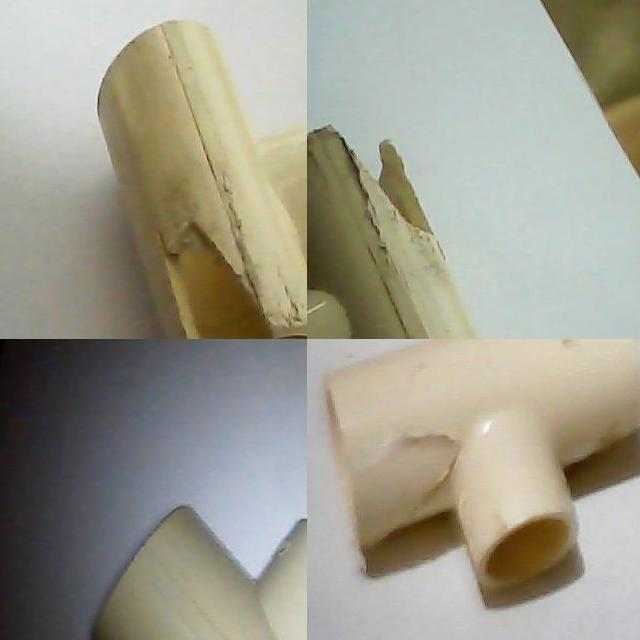Defective: (148, 224, 285, 339), (166, 226, 275, 339), (331, 123, 435, 240), (348, 421, 464, 514), (358, 140, 429, 235)
T Joint: (324, 339, 640, 583), (96, 20, 307, 339), (307, 127, 479, 339), (92, 506, 307, 640)
